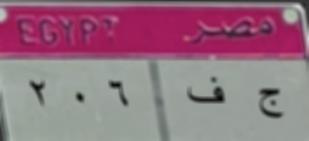0: (70, 85, 90, 111)
2: (26, 70, 50, 112)
6: (105, 75, 132, 113)
faa: (182, 74, 228, 113)
jeem: (255, 85, 287, 126)
